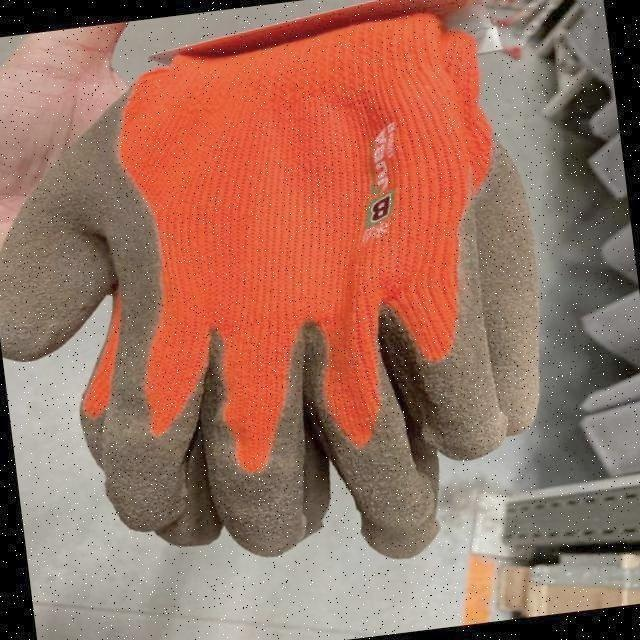Guantes: (58, 0, 559, 540)
